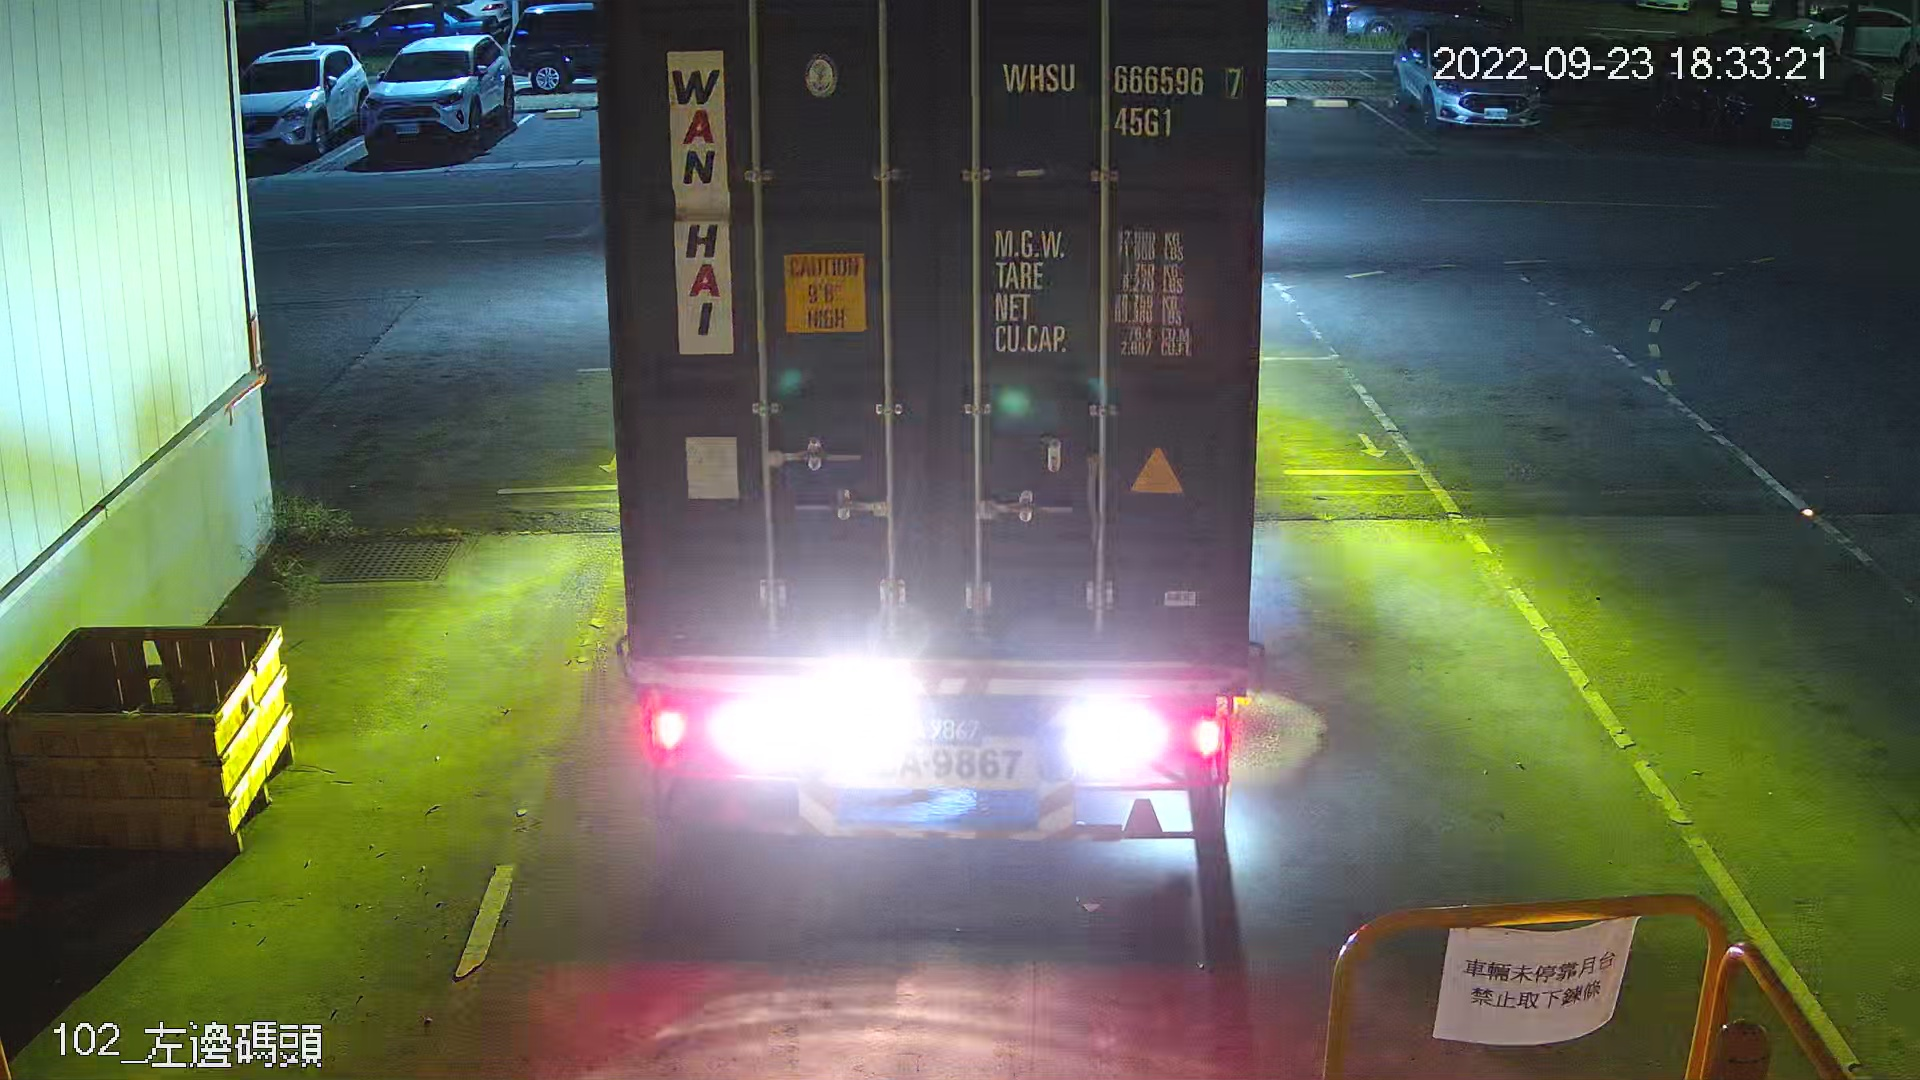container: (986, 42, 1255, 152)
